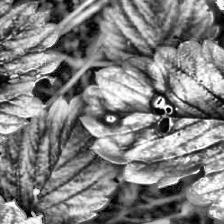Leaf Spot: (76, 38, 223, 224)
